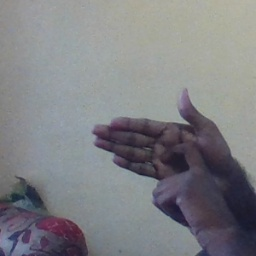R: (92, 85, 231, 223)
